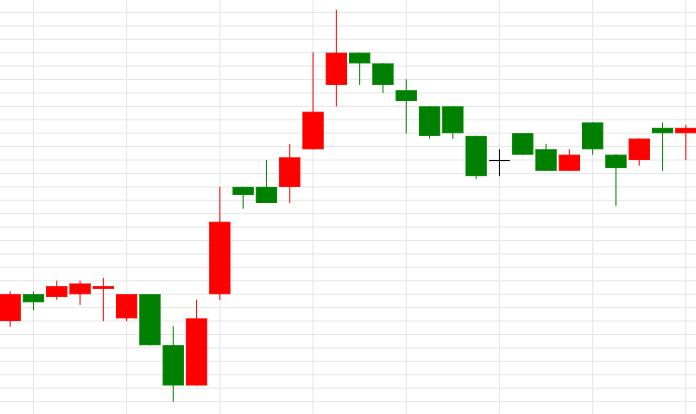shooting_star_fall: (186, 9, 347, 386)
